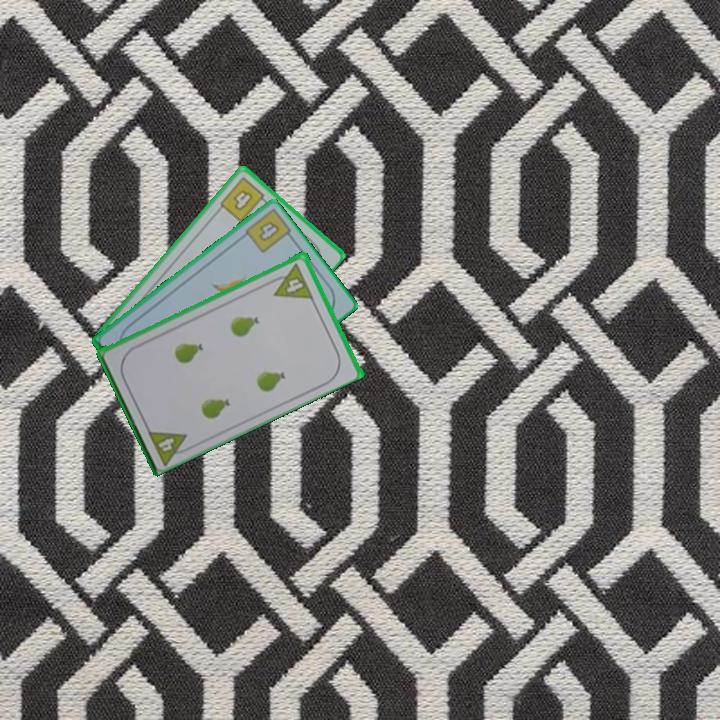4b: (216, 173, 272, 225), (255, 217, 283, 244)
4p: (144, 425, 196, 467), (266, 259, 316, 302)
